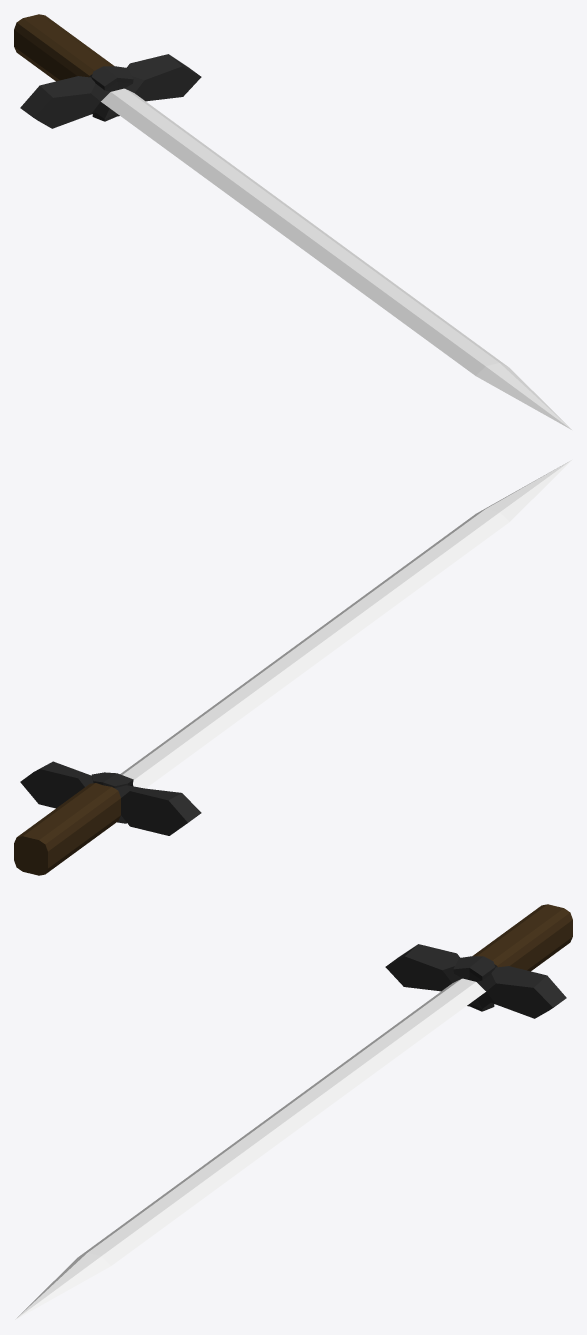
File: IronSword.fbx
The picture shows the model from 3 angles, top to bottom: view 1: azimuth 30°, elevation 25°; view 2: azimuth 150°, elevation 25°; view 3: azimuth 330°, elevation 25°; orthographic projection.
Parts seen in each view (by area): view 1: Cube; view 2: Cube; view 3: Cube.
Part boxes in pixels (x1,y1,x2,y2): Cube: (14, 14, 571, 429); Cube: (14, 460, 571, 875); Cube: (15, 904, 572, 1319).
Size of the model in its own units: 0.4946 by 0.118 by 2.76.
